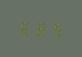eight: (33, 19, 46, 37)
five: (47, 20, 60, 37)
six: (18, 19, 31, 36)
